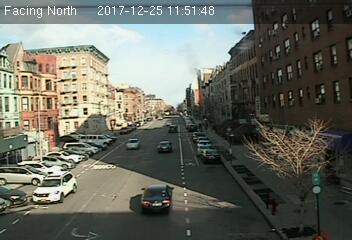car: (30, 171, 77, 203), (139, 183, 176, 213), (199, 149, 222, 165), (157, 139, 172, 153), (126, 138, 142, 150), (167, 125, 178, 133)
